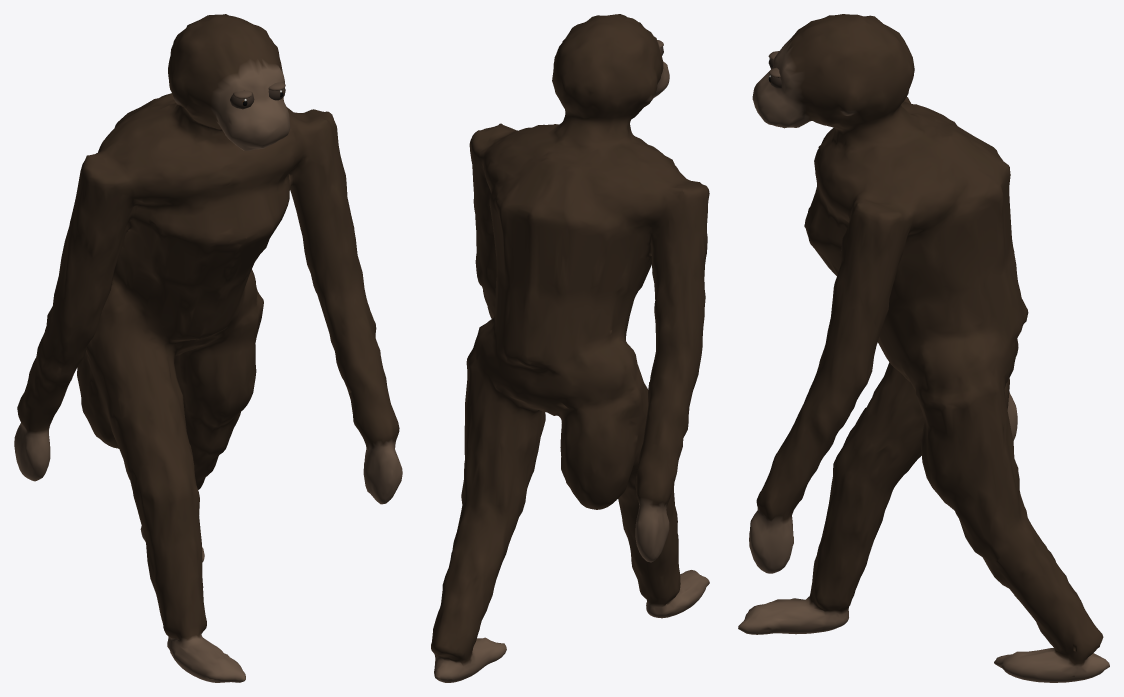
Rendered from SahelanthropusTchadensis.fbx.
3 views of the same model, side by side, from view 1: azimuth 30°, elevation 25°; view 2: azimuth 150°, elevation 25°; view 3: azimuth 270°, elevation 25° (orthographic). The views are drawn at different scales.
Parts seen in each view (by area): view 1: SahelanthropusTchadensis; view 2: SahelanthropusTchadensis; view 3: SahelanthropusTchadensis.
Boxes of the visible parts, x1=… form: SahelanthropusTchadensis: x1=14, y1=14, x2=402, y2=682; SahelanthropusTchadensis: x1=431, y1=14, x2=709, y2=682; SahelanthropusTchadensis: x1=738, y1=14, x2=1109, y2=682.
Size of the model in its own units: 0.4623 by 1.01 by 0.533.
